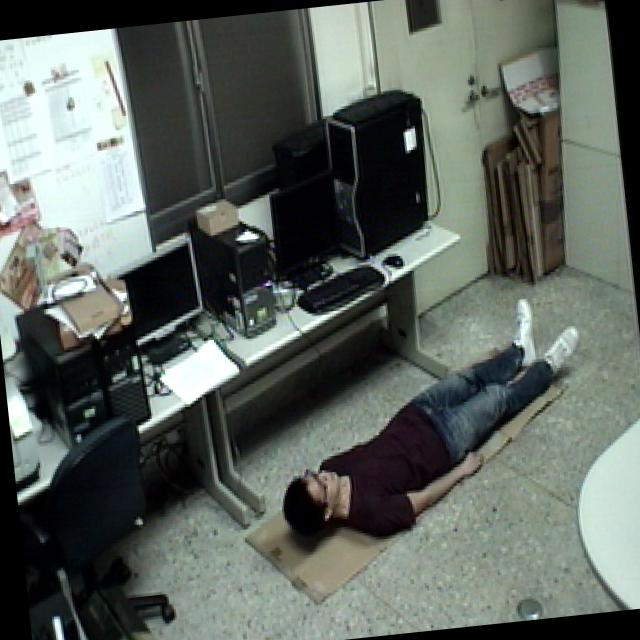lie: (245, 286, 600, 552)
